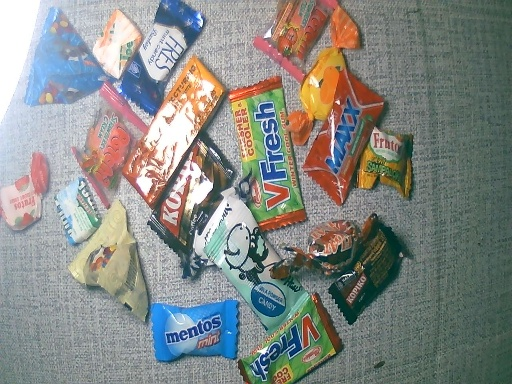plastic: (197, 197, 303, 325), (228, 74, 305, 239), (128, 72, 224, 197), (148, 134, 237, 266), (306, 77, 390, 199), (286, 17, 361, 146), (75, 200, 149, 328), (70, 84, 153, 197), (244, 297, 343, 384), (126, 2, 209, 104), (17, 11, 99, 109), (339, 221, 418, 319), (243, 1, 345, 72), (273, 215, 368, 282), (145, 302, 243, 362), (356, 126, 427, 199), (1, 148, 47, 240), (92, 13, 139, 78), (54, 173, 97, 239)
